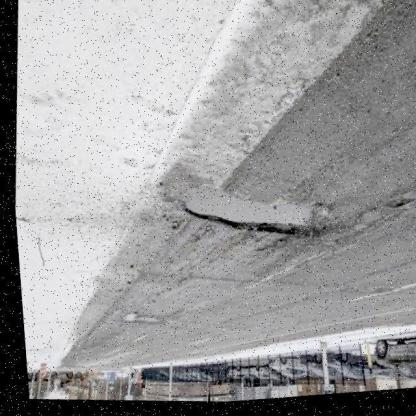pothole: (170, 174, 336, 256)
